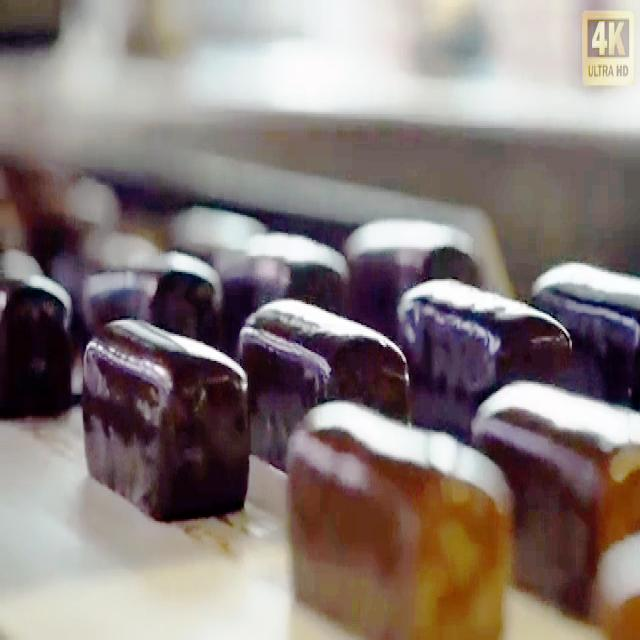Choco: (283, 396, 513, 634), (80, 311, 251, 521), (237, 292, 411, 469), (397, 272, 573, 400), (534, 258, 638, 407), (84, 252, 220, 359), (4, 260, 73, 423)
